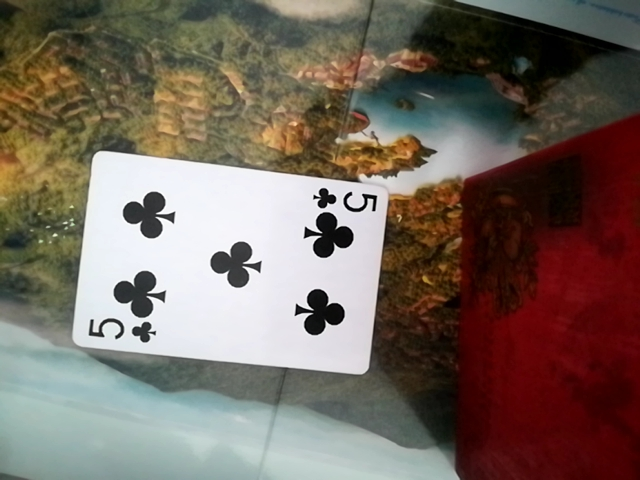mh 5: (75, 157, 393, 376)
